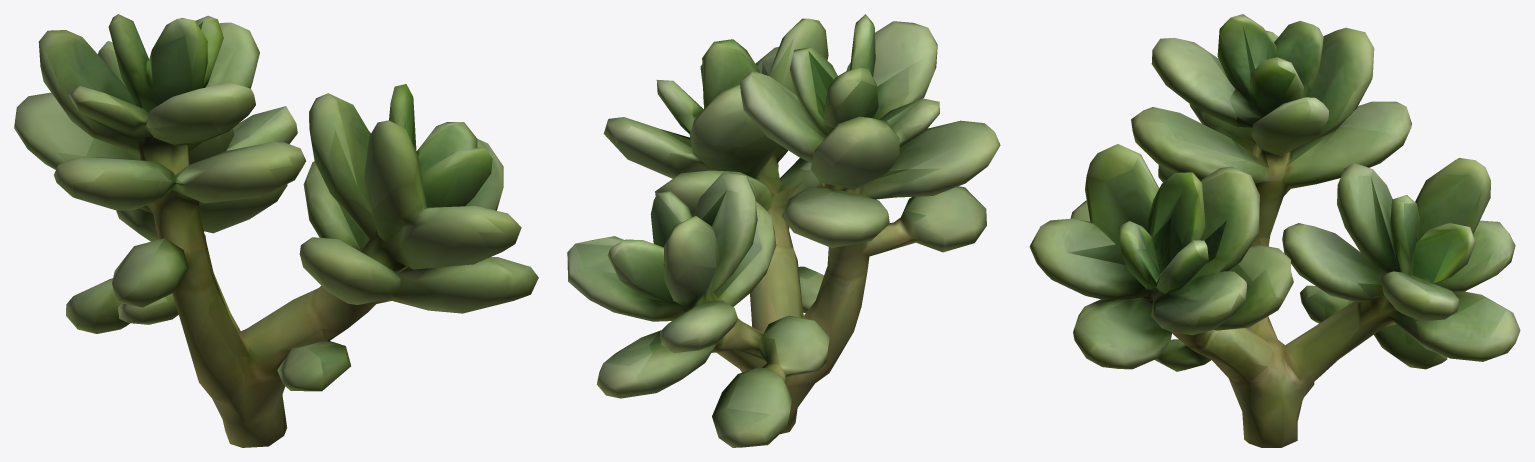
Rendered from cafe-plant-jade.glb.
3 renders of one model, left to right at view 1: azimuth 30°, elevation 25°; view 2: azimuth 150°, elevation 25°; view 3: azimuth 270°, elevation 25°, orthographic. The views are drawn at different scales.
Parts seen in each view (by area): view 1: tripo_node_73c53c85-6ba8-47f2-b351-283e69f4c317; view 2: tripo_node_73c53c85-6ba8-47f2-b351-283e69f4c317; view 3: tripo_node_73c53c85-6ba8-47f2-b351-283e69f4c317.
Boxes of the visible parts, left/top/right/bottom form: tripo_node_73c53c85-6ba8-47f2-b351-283e69f4c317: left=14, top=14, right=538, bottom=447; tripo_node_73c53c85-6ba8-47f2-b351-283e69f4c317: left=567, top=14, right=1000, bottom=447; tripo_node_73c53c85-6ba8-47f2-b351-283e69f4c317: left=1029, top=14, right=1520, bottom=447.
Size of the model in its own units: 0.3766 by 0.38 by 0.4325.
1 material, 1 textured.
